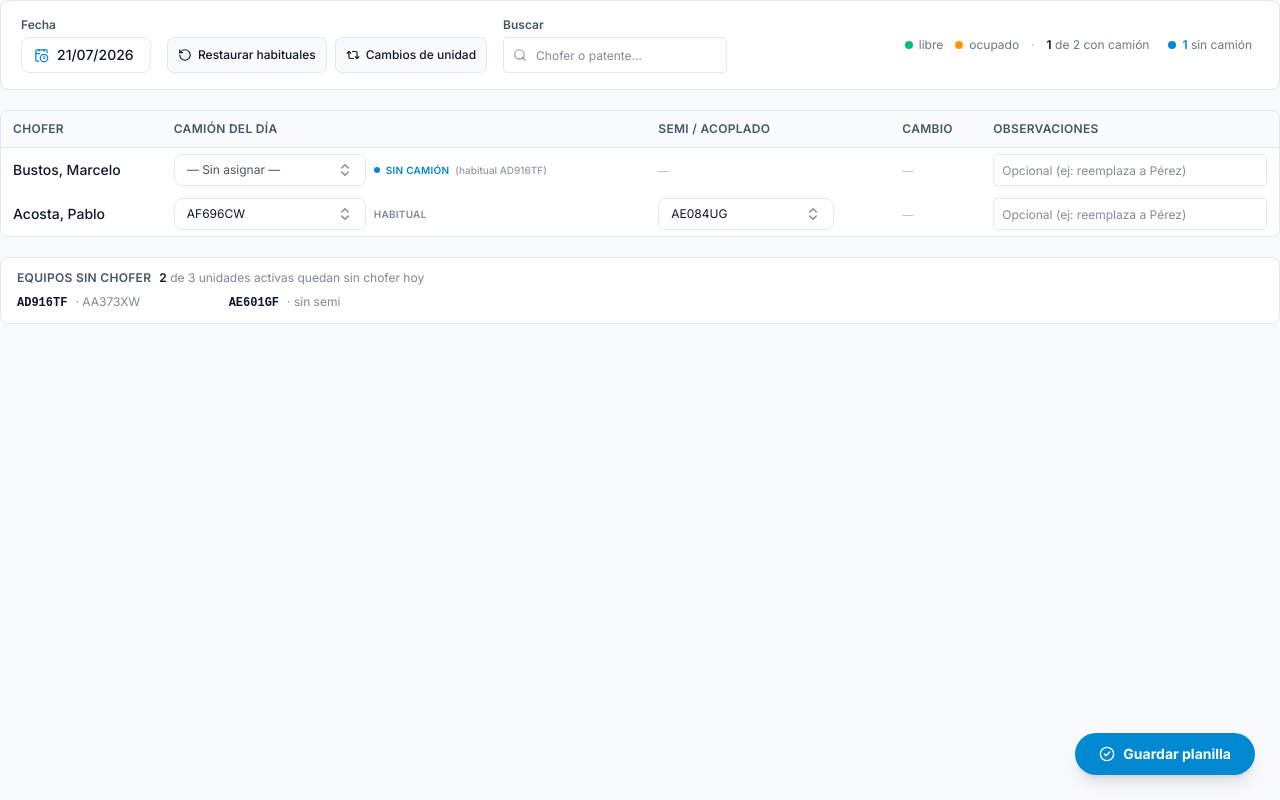
Scenario: PlanillaDiariaClient · choferes sin camión › deja aislar a los que no tienen unidad y volver atrás
The image size is (1280, 800).
Click the button titled "Ver solo los choferes sin camión asignado" at (1210, 45), box x1=1161 y1=34 x2=1259 y2=56
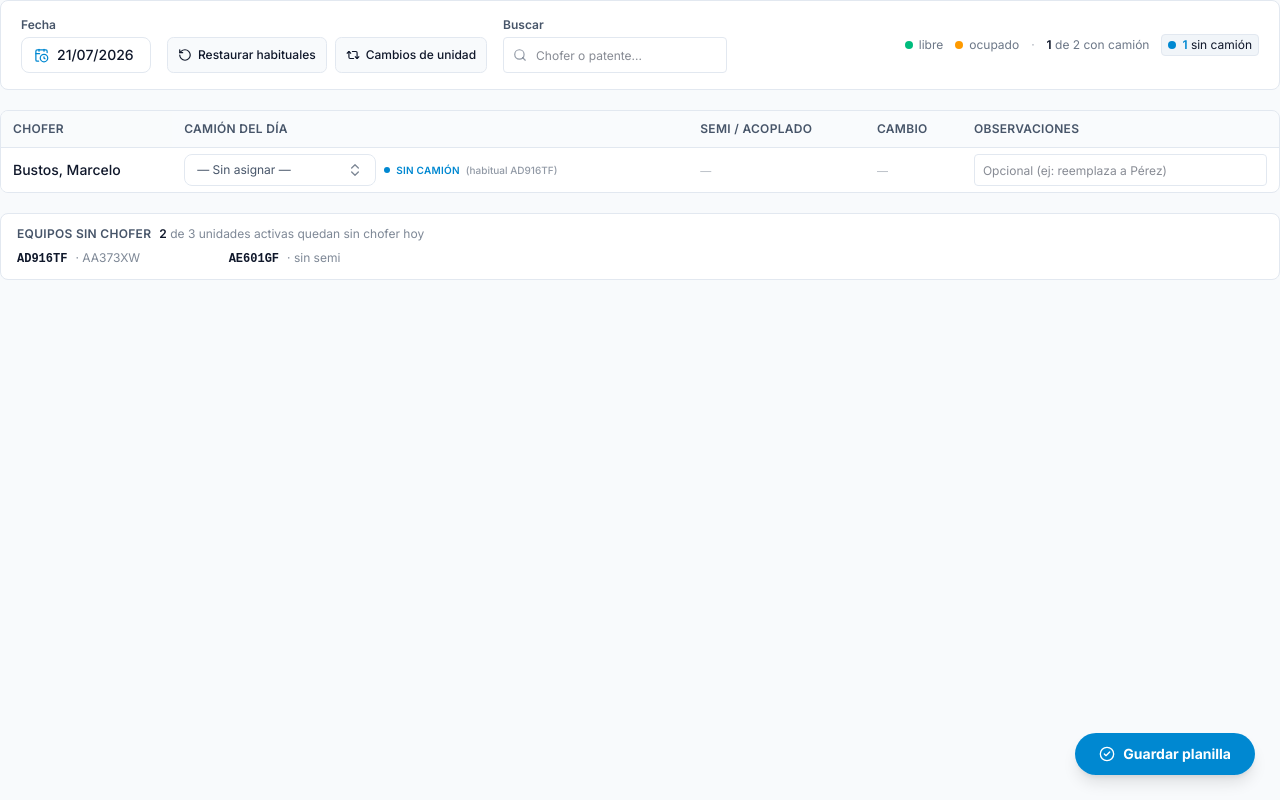
Expected: the text "Bustos, Marcelo" is shown, x1=13 y1=161 x2=121 y2=178
Now the text "Acosta," is gone
Click the button titled "Ver todos los choferes" at (1210, 45), box x1=1161 y1=34 x2=1259 y2=56
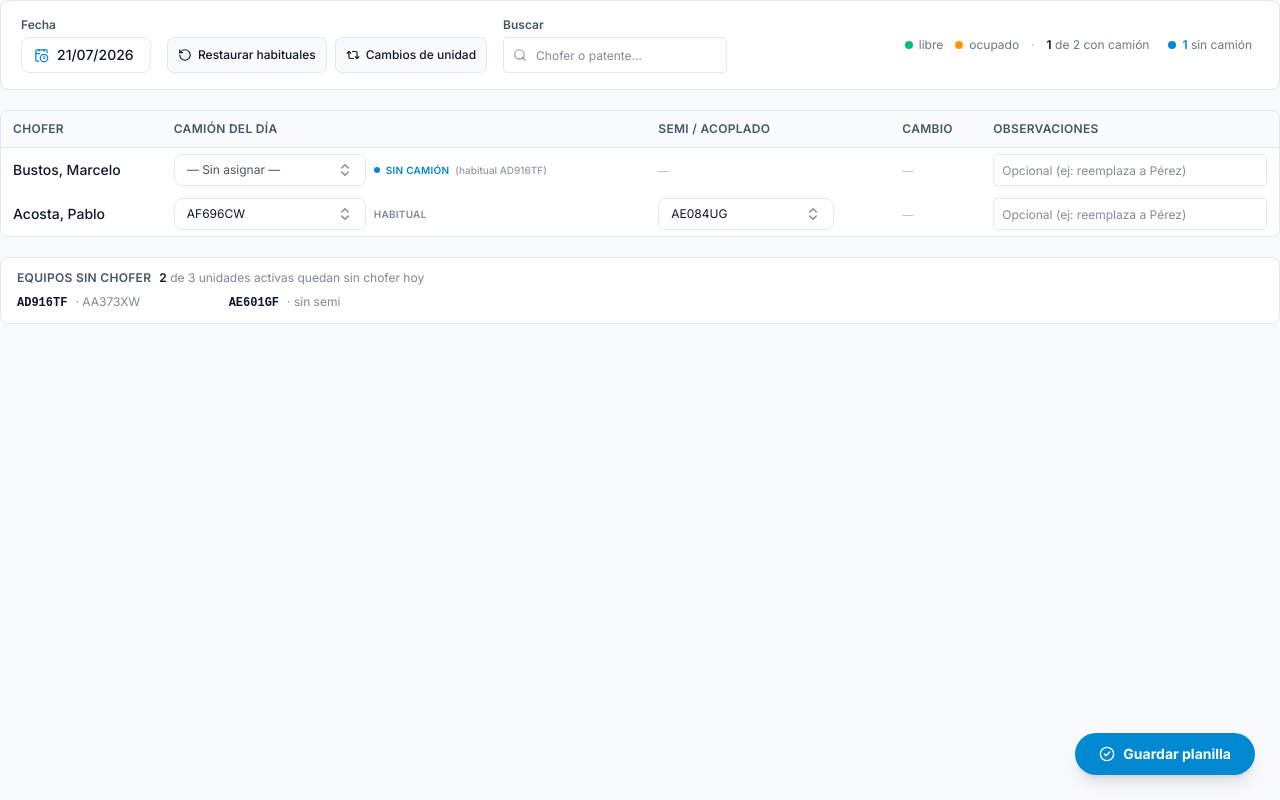
Now the text "Acosta, Pablo" is shown, box x1=13 y1=205 x2=105 y2=222
